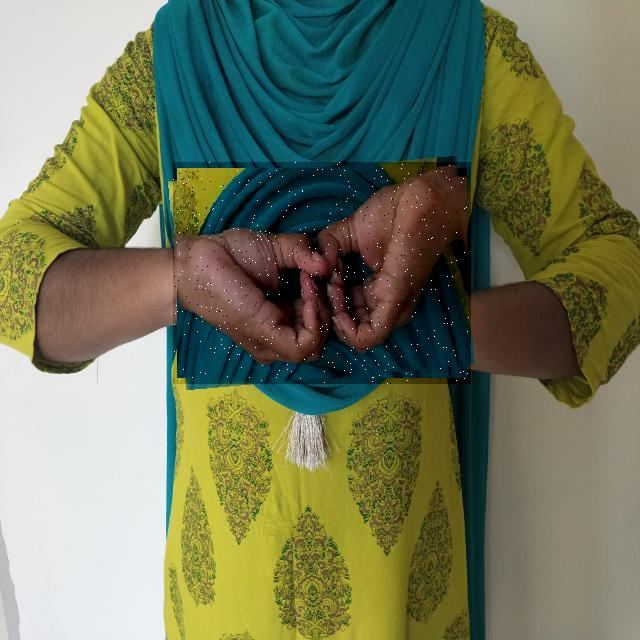B: (173, 162, 471, 384)
